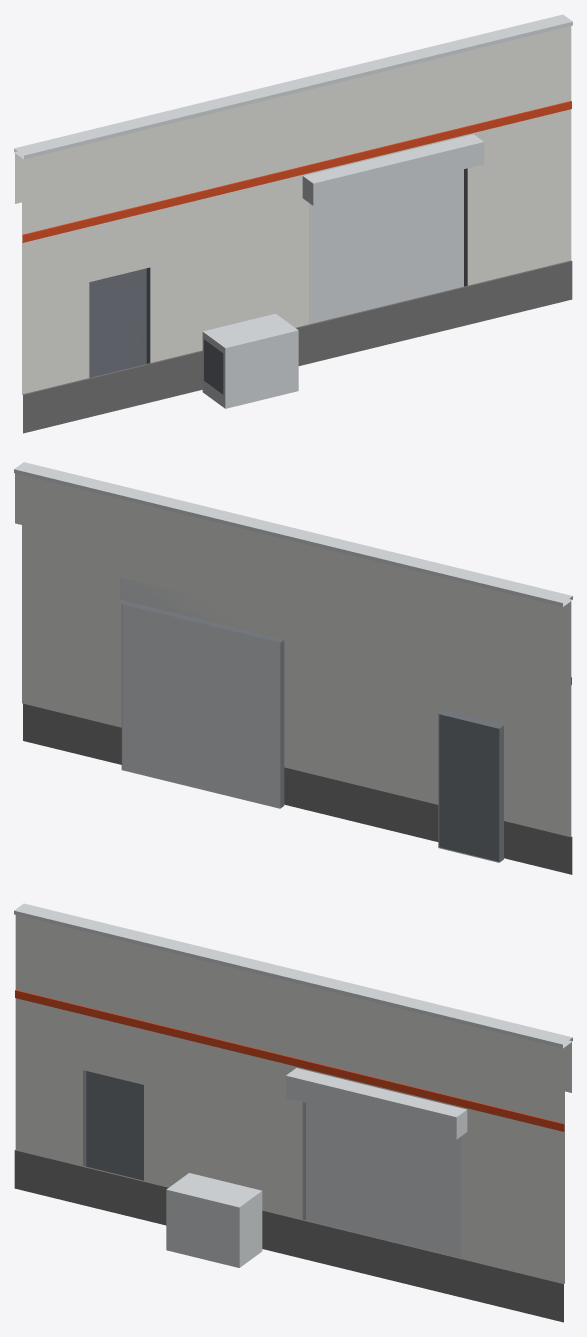
The picture shows the model from 3 angles, top to bottom: view 1: azimuth 30°, elevation 25°; view 2: azimuth 150°, elevation 25°; view 3: azimuth 330°, elevation 25°; orthographic projection.
Visible parts, largest first — view 1: a2003/400/base-w3; view 2: a2003/400/base-w3; view 3: a2003/400/base-w3.
Boxes of the visible parts, x1=… form: a2003/400/base-w3: x1=14, y1=14, x2=572, y2=433; a2003/400/base-w3: x1=14, y1=462, x2=572, y2=874; a2003/400/base-w3: x1=14, y1=903, x2=572, y2=1322.
Bounding box in the file's own units: 9 × 4.36 × 0.98.
